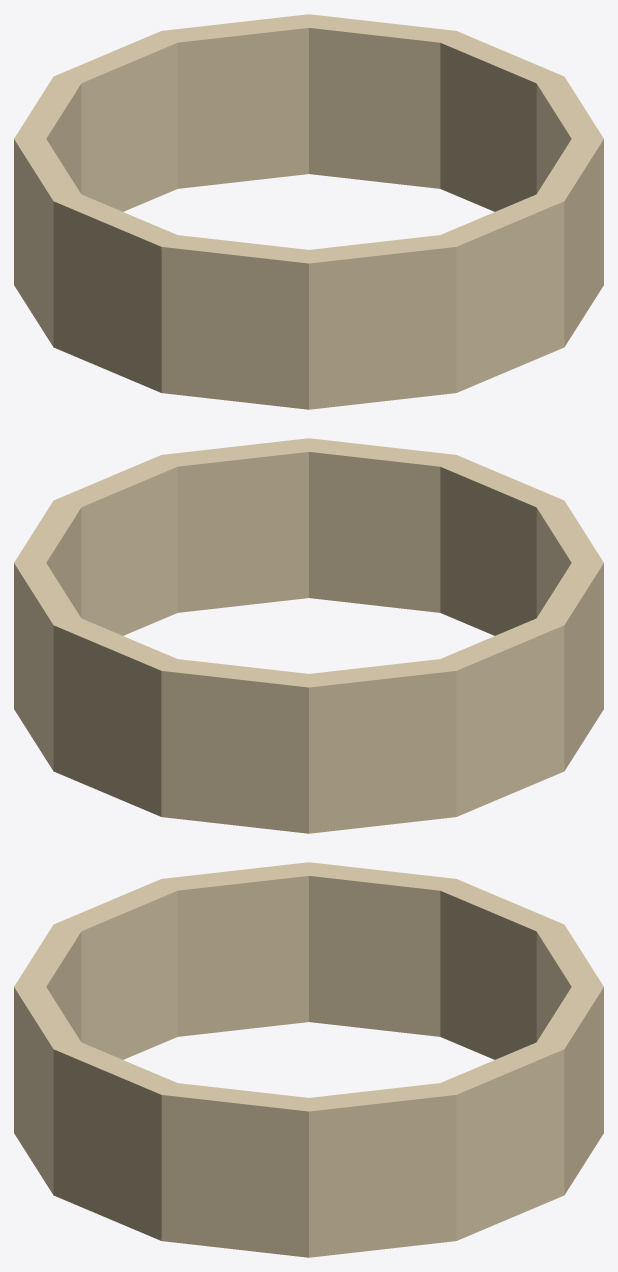
Rendered from prop-quiver-rim-blank.fbx.
3 renders of one model, top to bottom at view 1: azimuth 30°, elevation 25°; view 2: azimuth 150°, elevation 25°; view 3: azimuth 270°, elevation 25°, orthographic.
Visible parts, largest first — view 1: prop-quiver-rim-blank; view 2: prop-quiver-rim-blank; view 3: prop-quiver-rim-blank.
Part boxes in pixels (box(x1,y1,x2,y2)): prop-quiver-rim-blank: box(14, 14, 603, 409); prop-quiver-rim-blank: box(14, 438, 603, 833); prop-quiver-rim-blank: box(14, 862, 603, 1257).
Size of the model in its own units: 12.8 by 3.5 by 12.8.
